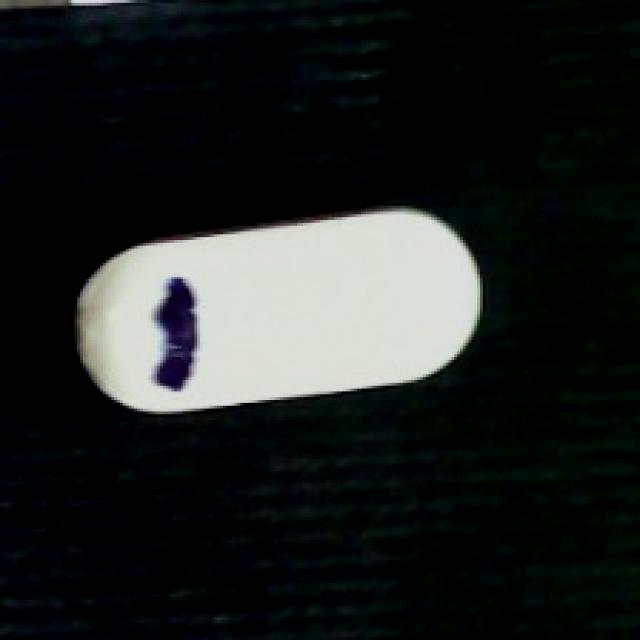defected: (66, 206, 488, 411)
